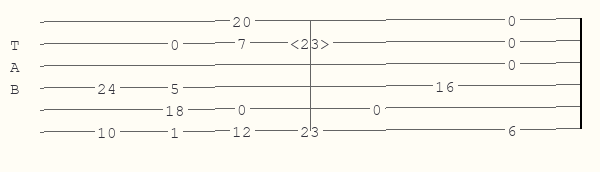0: (170, 35, 184, 49), (237, 101, 251, 115), (372, 101, 386, 115), (507, 13, 521, 27), (507, 57, 521, 71), (507, 35, 521, 49)
1: (170, 123, 184, 137)
10: (97, 123, 121, 137)
12: (232, 123, 256, 137)
16: (435, 79, 459, 93)
18: (165, 101, 189, 115)
20: (232, 13, 256, 27)
23: (300, 123, 324, 137)
24: (97, 79, 121, 93)
5: (170, 79, 184, 93)
6: (507, 123, 521, 137)
7: (237, 35, 251, 49)
harmonic: (290, 35, 334, 50)
